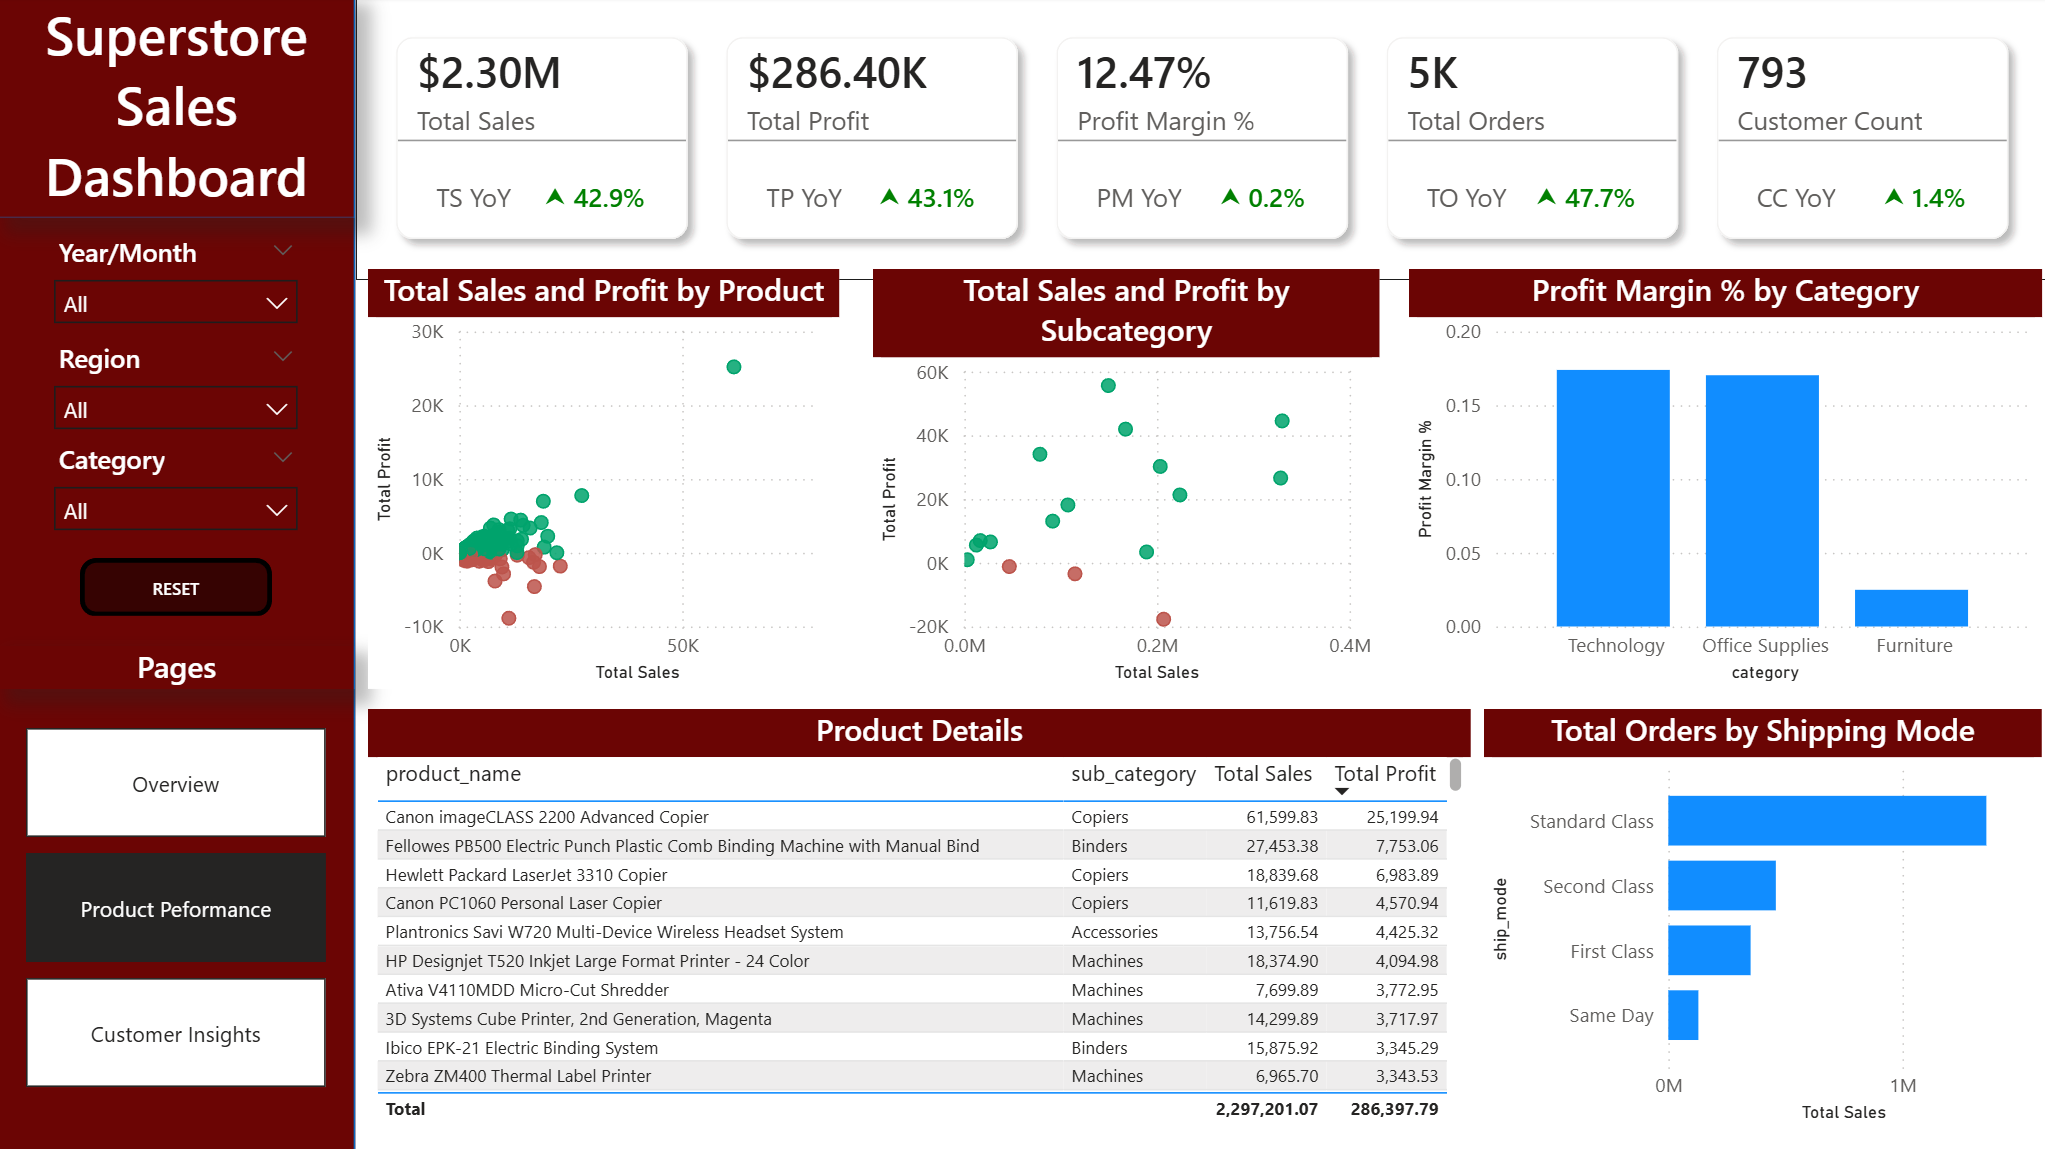

The page's visual inventory and layout, read from the dashboard file:
{"tool":"powerbi","page":{"name":"Product Peformance","canvas":[1280,720],"ordinal":1},"visuals":[{"type":"shape","box":[0,0,222.9,719.8],"z":0},{"type":"cardVisual","title":"dad","fields":{"Data":["bi fact_orders.Total Sales","bi fact_orders.Total Profit","bi fact_orders.Profit Margin %","bi fact_orders.Total Orders","bi fact_orders.Customer Count"]},"box":[223.1,0,1056.9,176.7],"z":1000},{"type":"shape","title":"Superstore Sales Dashboard","box":[0,0,222.9,137.5],"z":2000},{"type":"slicer","fields":{"Values":["bi dim_date.date_value.Variation.Date Hierarchy.Year","bi dim_date.date_value.Variation.Date Hierarchy.Month"]},"box":[25,143.8,171.9,65.6],"z":3000},{"type":"slicer","fields":{"Values":["bi dim_geography.region"]},"box":[25,209.4,171.9,63.5],"z":4000},{"type":"slicer","fields":{"Values":["bi dim_product.category"]},"box":[25,272.9,171.9,65.6],"z":5000},{"type":"actionButton","box":[51,350,119.8,36.5],"z":6000},{"type":"shape","title":"Pages","box":[0,405.2,222.9,27.1],"z":7000},{"type":"pageNavigator","box":[17.7,456.2,187.5,225],"z":8000},{"type":"scatterChart","title":"Total Sales and Profit by Product","fields":{"X":["bi fact_orders.Total Sales"],"Y":["bi fact_orders.Total Profit"],"Category":["bi dim_product.product_name"]},"box":[230.8,169.7,294.5,262],"z":9000},{"type":"clusteredBarChart","title":"Total Orders by Shipping Mode","fields":{"Category":["bi dim_ship_mode.ship_mode"],"Y":["bi fact_orders.Total Sales"]},"box":[927.1,444.2,348.1,262],"z":10000},{"type":"columnChart","title":"Profit Margin % by Category","fields":{"Y":["bi fact_orders.Profit Margin %"],"Category":["bi dim_product.category"]},"box":[880.3,169.7,394.9,262],"z":11000},{"type":"scatterChart","title":"Total Sales and Profit by Subcategory","fields":{"X":["bi fact_orders.Total Sales"],"Y":["bi fact_orders.Total Profit"],"Category":["bi dim_product.sub_category"]},"box":[545.9,169.7,316.3,262],"z":12000},{"type":"tableEx","title":"Product Details","fields":{"Values":["bi dim_product.product_name","bi dim_product.sub_category","bi fact_orders.Total Sales","bi fact_orders.Total Profit"]},"box":[230.8,444.2,688.2,262],"z":13000}]}

Visuals, with their boxes in screenshot pixels (x1, y1, x2, y2), scaled from the page's 1280x720 canvas onto the 2045x1149 screenshot:
shape: box(0, 0, 356, 1148)
"dad" cardVisual: box(356, 0, 2044, 282)
"Superstore Sales Dashboard" shape: box(0, 0, 356, 219)
slicer - bi dim_date.date_value.Variation.Date Hierarchy.Year x bi dim_date.date_value.Variation.Date Hierarchy.Month: box(40, 229, 315, 334)
slicer - bi dim_geography.region: box(40, 334, 315, 436)
slicer - bi dim_product.category: box(40, 436, 315, 540)
actionButton: box(81, 559, 273, 617)
"Pages" shape: box(0, 647, 356, 690)
pageNavigator: box(28, 728, 328, 1087)
"Total Sales and Profit by Product" scatterChart: box(369, 271, 839, 689)
"Total Orders by Shipping Mode" clusteredBarChart: box(1481, 709, 2037, 1127)
"Profit Margin % by Category" columnChart: box(1406, 271, 2037, 689)
"Total Sales and Profit by Subcategory" scatterChart: box(872, 271, 1377, 689)
"Product Details" tableEx: box(369, 709, 1468, 1127)
